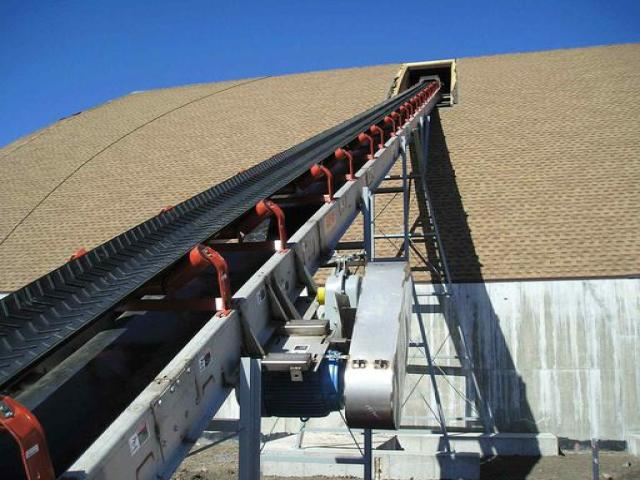conveyor: (0, 79, 441, 480)
